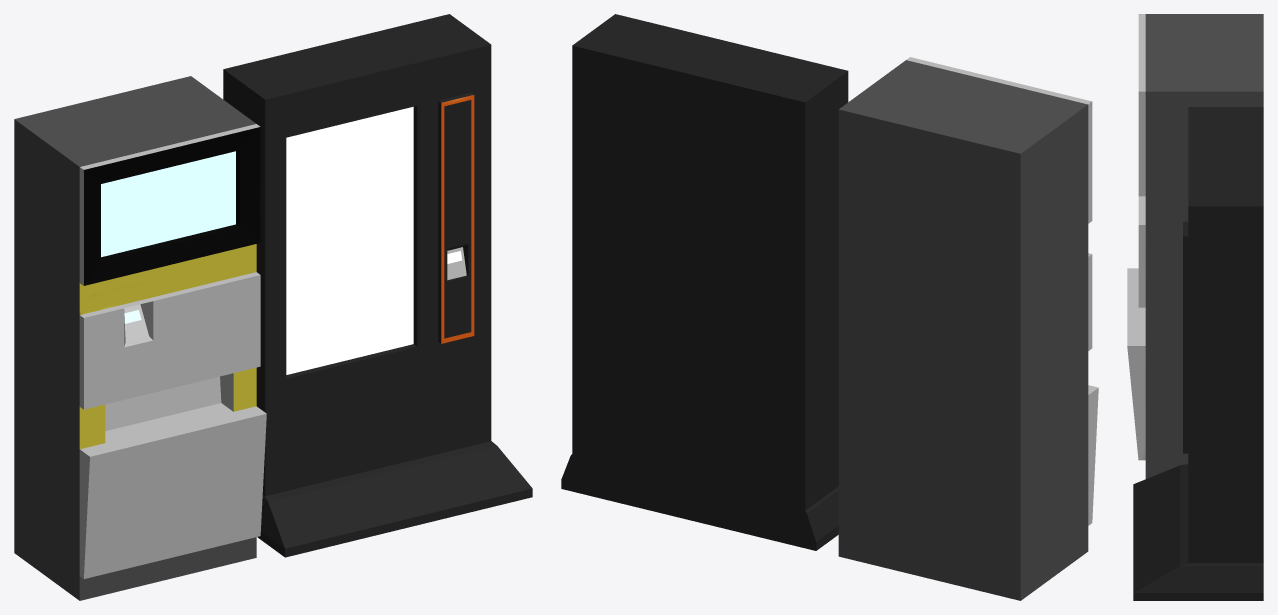
The model's file is cajequinsa.glb.
The picture shows the model from 3 angles, left to right: view 1: azimuth 30°, elevation 25°; view 2: azimuth 150°, elevation 25°; view 3: azimuth 270°, elevation 25°; orthographic projection. The views are drawn at different scales.
Visible parts, largest first — view 1: Cajero Equinsa solo tarjeta, Cajero Equinsa; view 2: Cajero Equinsa solo tarjeta, Cajero Equinsa; view 3: Cajero Equinsa solo tarjeta, Cajero Equinsa.
Part boxes in pixels (left/top/right/bottom): Cajero Equinsa solo tarjeta: left=223, top=14, right=532, bottom=557; Cajero Equinsa: left=14, top=76, right=266, bottom=600; Cajero Equinsa solo tarjeta: left=561, top=14, right=848, bottom=550; Cajero Equinsa: left=838, top=57, right=1098, bottom=600; Cajero Equinsa solo tarjeta: left=1133, top=107, right=1263, bottom=600; Cajero Equinsa: left=1127, top=14, right=1263, bottom=478.
Size of the model in its own units: 3.43 by 3.19 by 1.01.
2 materials, 2 textured.
